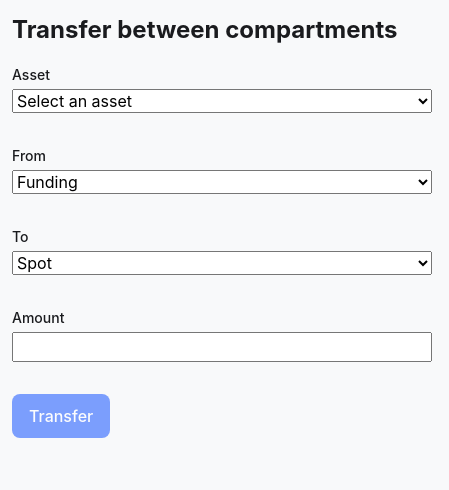
CompartmentTransferForm › blocks submit and warns when from and to are the same compartment
The width and height of the screenshot is (449, 490).
Select "Funding" in the dropdown labelled "To" at (222, 263), box top-left (12, 251), bottom-right (432, 275)
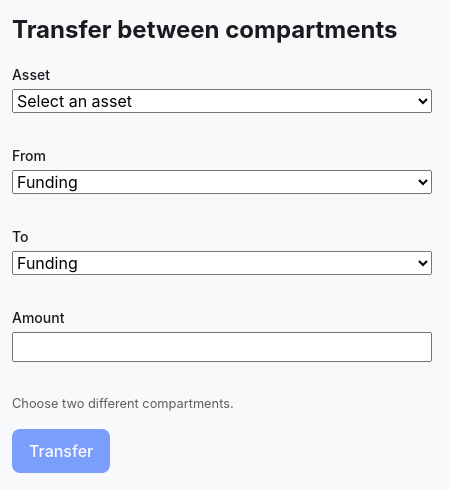
Expected: the button "Transfer" is disabled, top-left (12, 429), bottom-right (110, 473)
Now the text "Choose two different compartments." is shown, box top-left (12, 396), bottom-right (234, 411)
